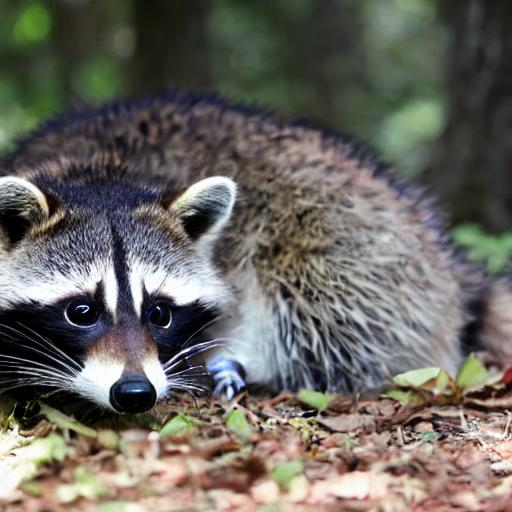raccoon: (0, 76, 512, 435)
